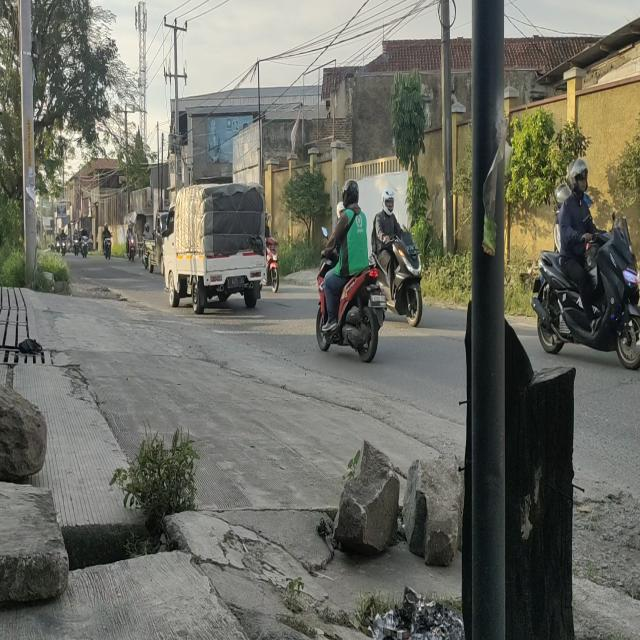helmet: (567, 160, 590, 200), (340, 181, 360, 207), (382, 189, 396, 216), (554, 185, 570, 208), (336, 201, 346, 223), (265, 213, 271, 227)
